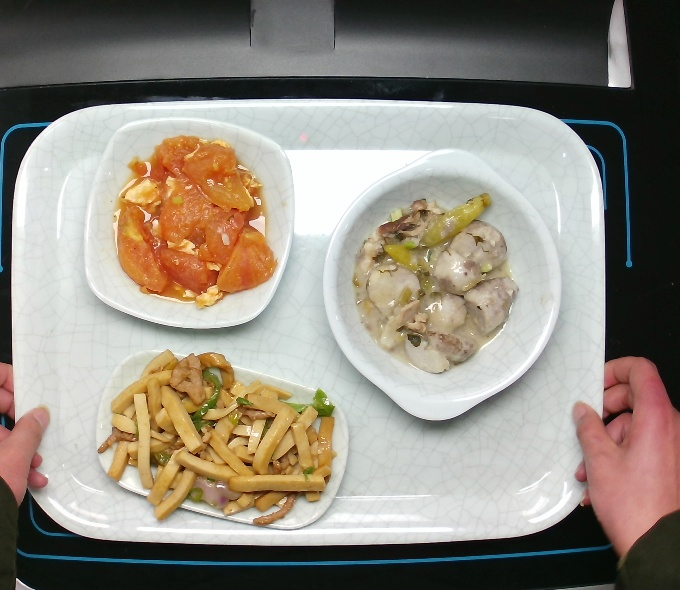wcq-FanQieChaoDan: (108, 124, 280, 310)
wcq-QianYeDouFu: (94, 343, 343, 532)
wcq-YangYu: (348, 185, 533, 379)
